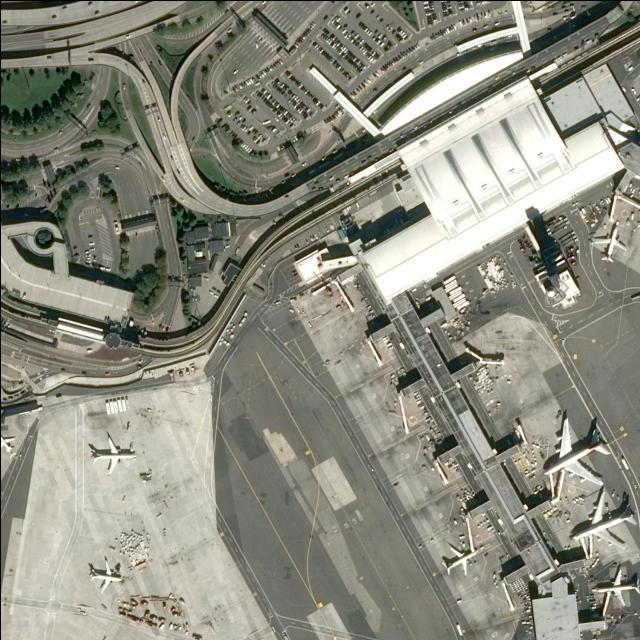Aircraft: (539, 414, 610, 486), (569, 486, 636, 549), (592, 564, 640, 606), (87, 433, 135, 472), (591, 222, 627, 262), (438, 541, 478, 575), (87, 554, 121, 590), (0, 432, 14, 454)
